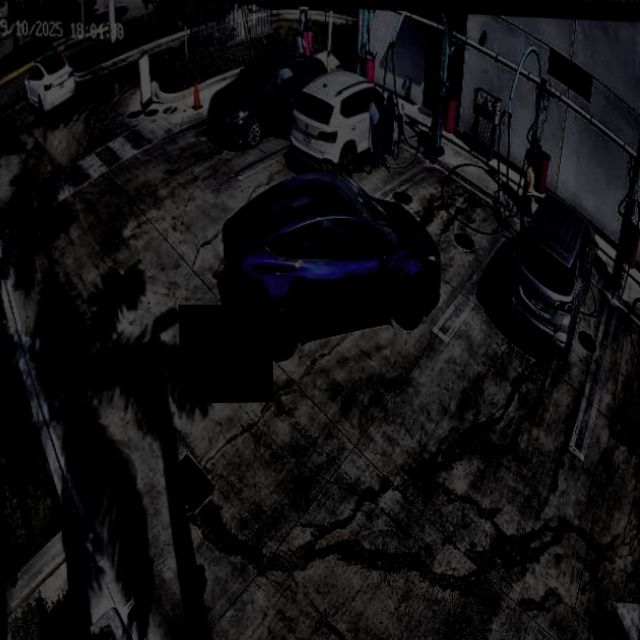Car: (228, 175, 439, 357), (287, 63, 402, 182)
